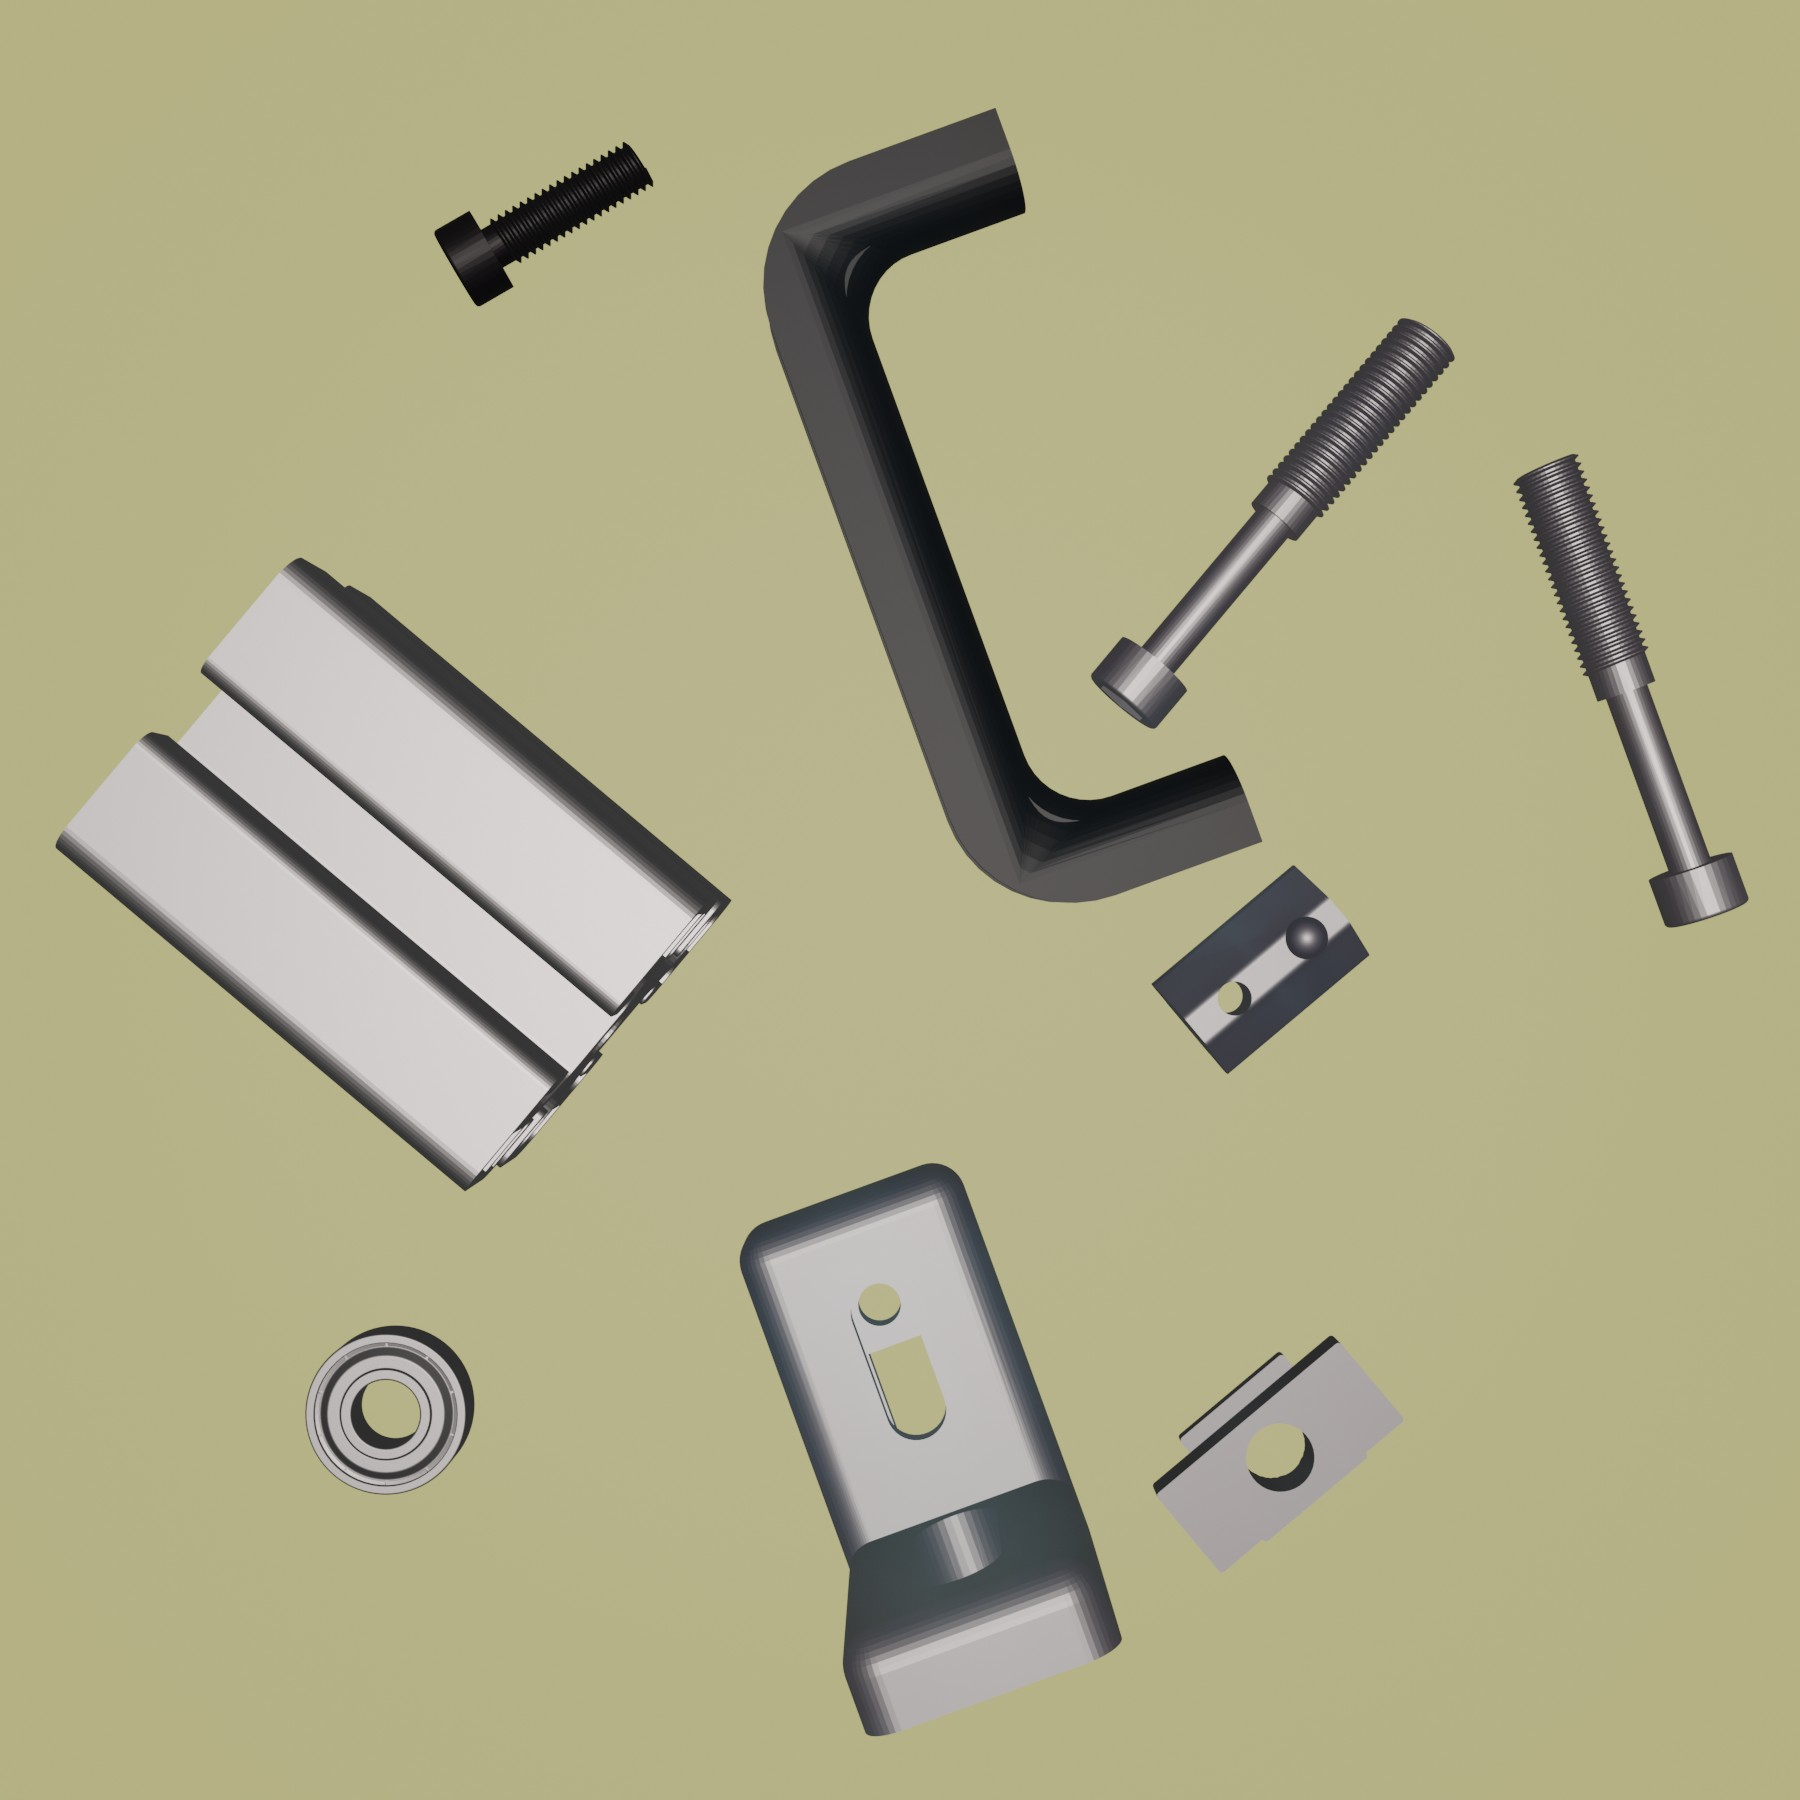Aluminium Extension: (51, 552, 734, 1195)
Ball Bearing: (302, 1322, 476, 1498)
Multiwinkel: (738, 1159, 1124, 1739)
Pull Handle: (758, 102, 1266, 905)
Shoulder Socket Head Cap Screw: (1088, 313, 1459, 732), (1512, 452, 1751, 931)
Socket Head Cap Screw: (432, 138, 654, 308)
T Nut Square: (1151, 1330, 1409, 1574)
T Spring Nut: (1151, 862, 1371, 1076)
